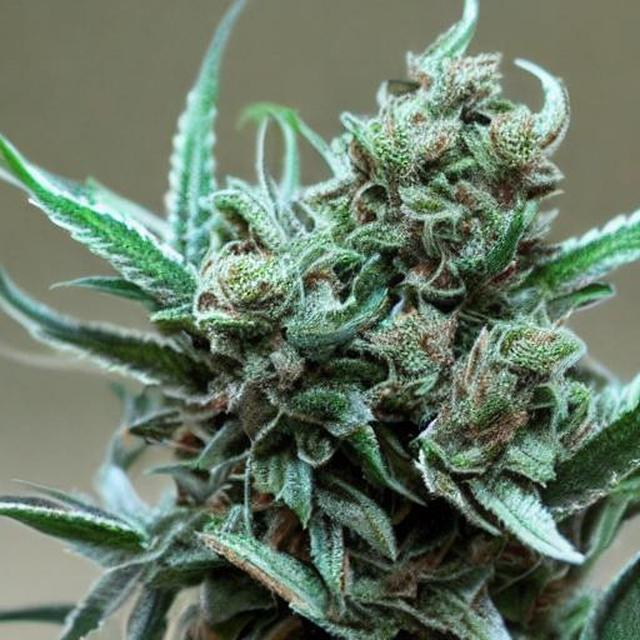Marijuana Plant: (29, 0, 639, 640)
